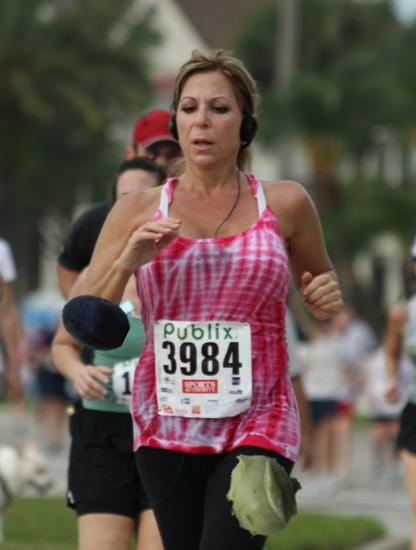Blueberry: (60, 288, 130, 358)
Kohlrabi: (219, 448, 308, 537)
